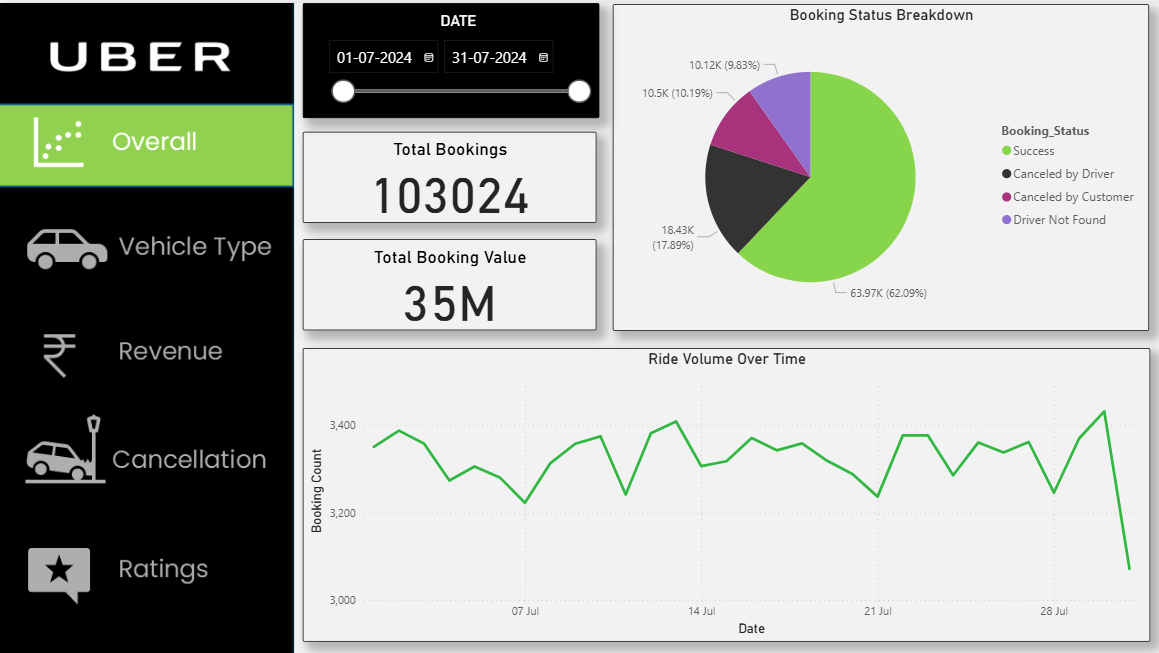

The dashboard page shown, as its layout file describes it:
{"tool":"powerbi","page":{"name":"Overall","canvas":[1280,720],"ordinal":0},"visuals":[{"type":"actionButton","box":[0,222.1,322.7,92],"z":0},{"type":"actionButton","box":[1.2,343.6,322.7,96.9],"z":1000},{"type":"actionButton","box":[0,451.5,322.7,90.8],"z":2000},{"type":"actionButton","box":[0,579.1,322.7,93.3],"z":3000},{"type":"lineChart","title":"Ride Volume Over Time","fields":{"Y":["CountNonNull(July.Booking_ID)"],"Category":["July.Date"]},"box":[333.4,378.7,930.4,322.5],"z":4000},{"type":"pieChart","title":"Booking Status Breakdown","fields":{"Category":["July.Booking_Status"],"Y":["CountNonNull(July.Booking_Status)"]},"box":[673.8,1.4,588.7,358.1],"z":5000},{"type":"slicer","title":"DATE","fields":{"Values":["July.Date"]},"box":[333.4,0,325.2,126.2],"z":6000},{"type":"card","title":"Total Bookings","fields":{"Values":["CountNonNull(July.Booking_ID)"]},"box":[333.4,141.3,322.5,100.2],"z":7000},{"type":"card","title":"Total Booking Value","fields":{"Values":["Sum(July.Booking_Value)"]},"box":[333.4,259.3,322.5,100.2],"z":8000}]}

Visuals, with their boxes in screenshot pixels (x1, y1, x2, y2), scaled from the page's 1280x720 canvas onto the 1159x653 screenshot:
actionButton: x1=0, y1=201, x2=292, y2=285
actionButton: x1=1, y1=312, x2=293, y2=400
actionButton: x1=0, y1=409, x2=292, y2=492
actionButton: x1=0, y1=525, x2=292, y2=610
"Ride Volume Over Time" lineChart: x1=302, y1=343, x2=1144, y2=636
"Booking Status Breakdown" pieChart: x1=610, y1=1, x2=1143, y2=326
"DATE" slicer: x1=302, y1=0, x2=596, y2=114
"Total Bookings" card: x1=302, y1=128, x2=594, y2=219
"Total Booking Value" card: x1=302, y1=235, x2=594, y2=326
